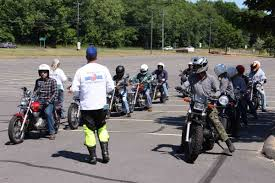helmet: (187, 54, 208, 82), (36, 62, 53, 78), (114, 63, 127, 81), (214, 61, 228, 76), (138, 63, 150, 77)
